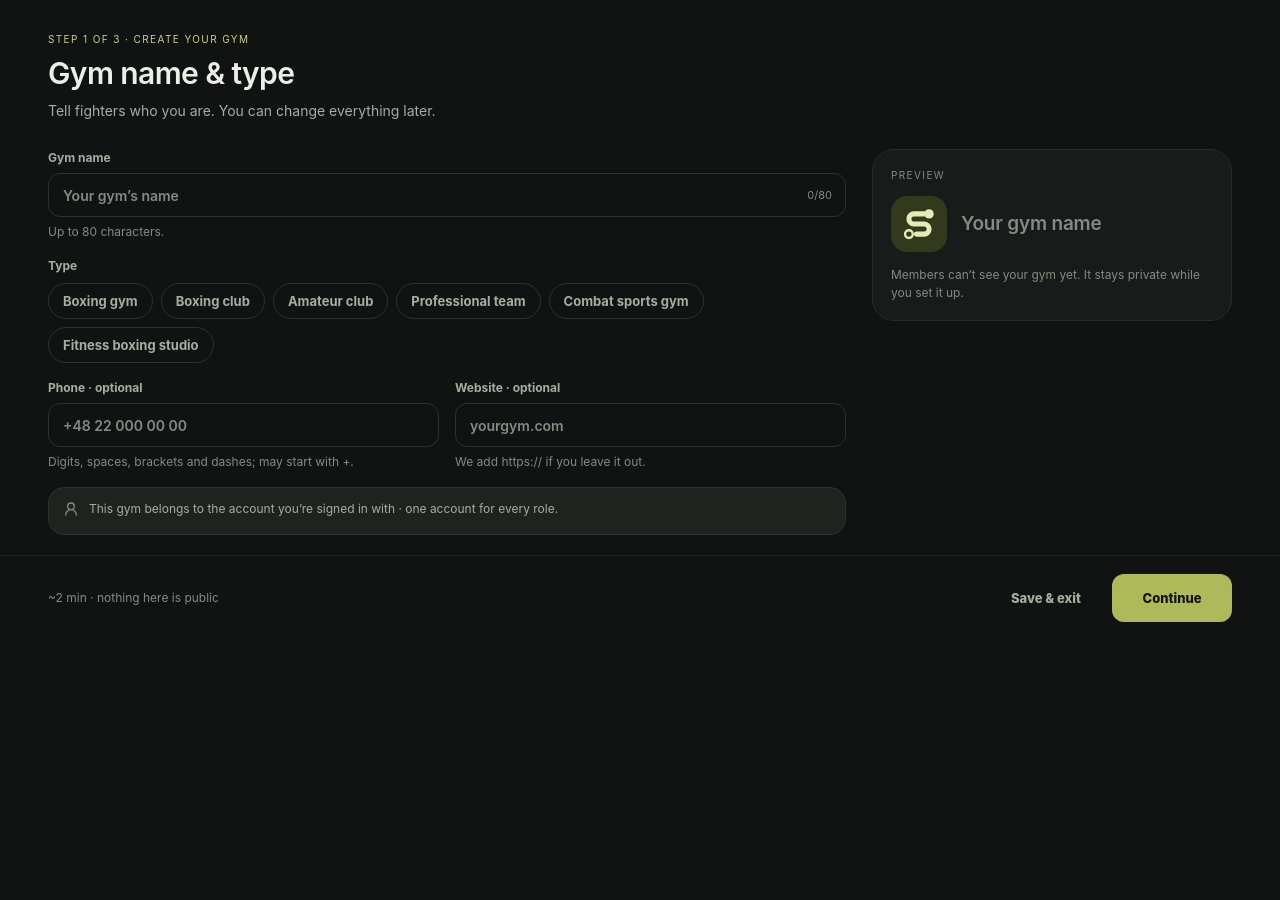
TypeStep (OG1) › checks the requirements before creating anything
Click the button "Continue" at coordinates (1172, 598), box [1112,574,1232,622]
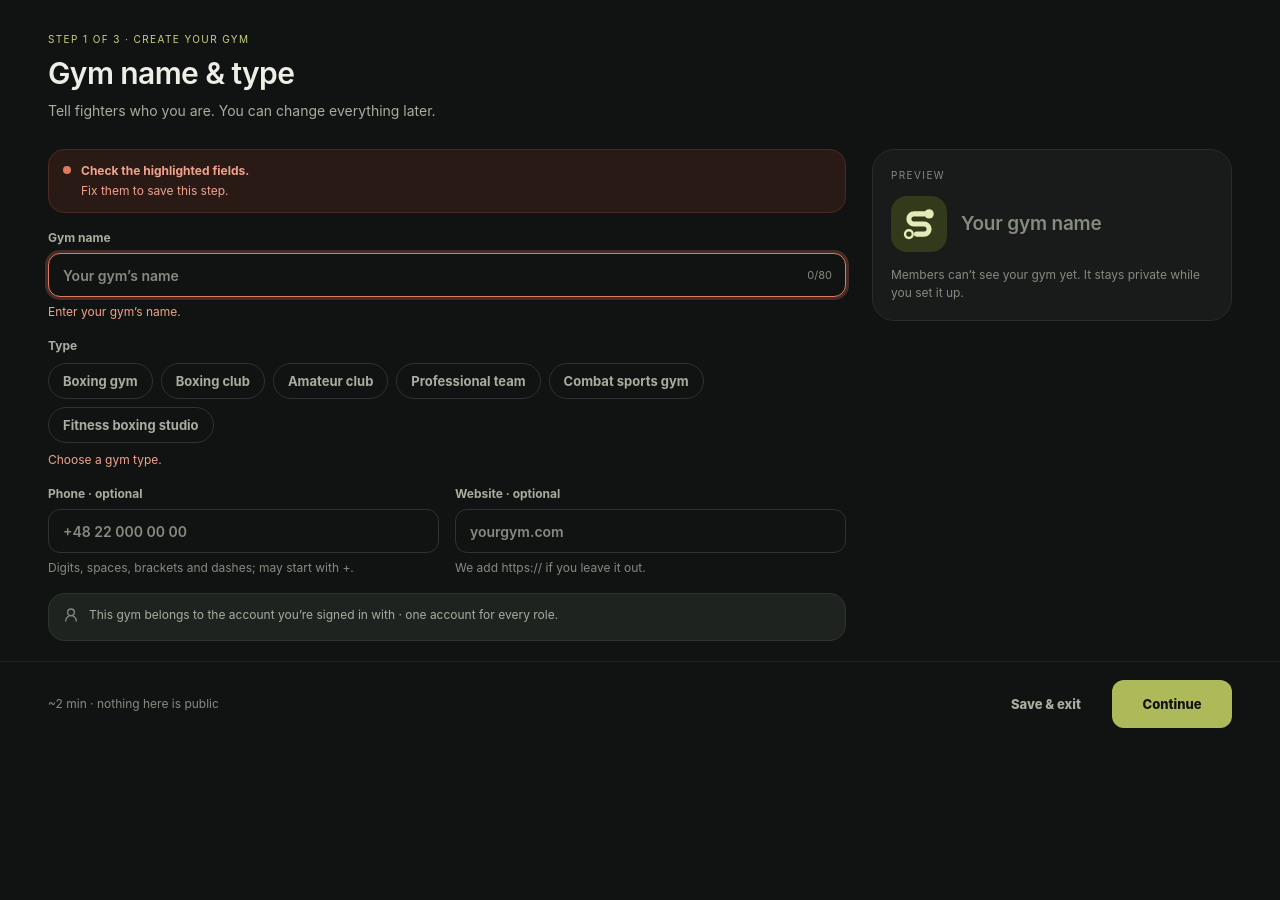
Result: the text "Enter your gym’s name." is shown at [48,304,181,319]
Result: the text "Choose a gym type." is shown at [48,452,162,467]
